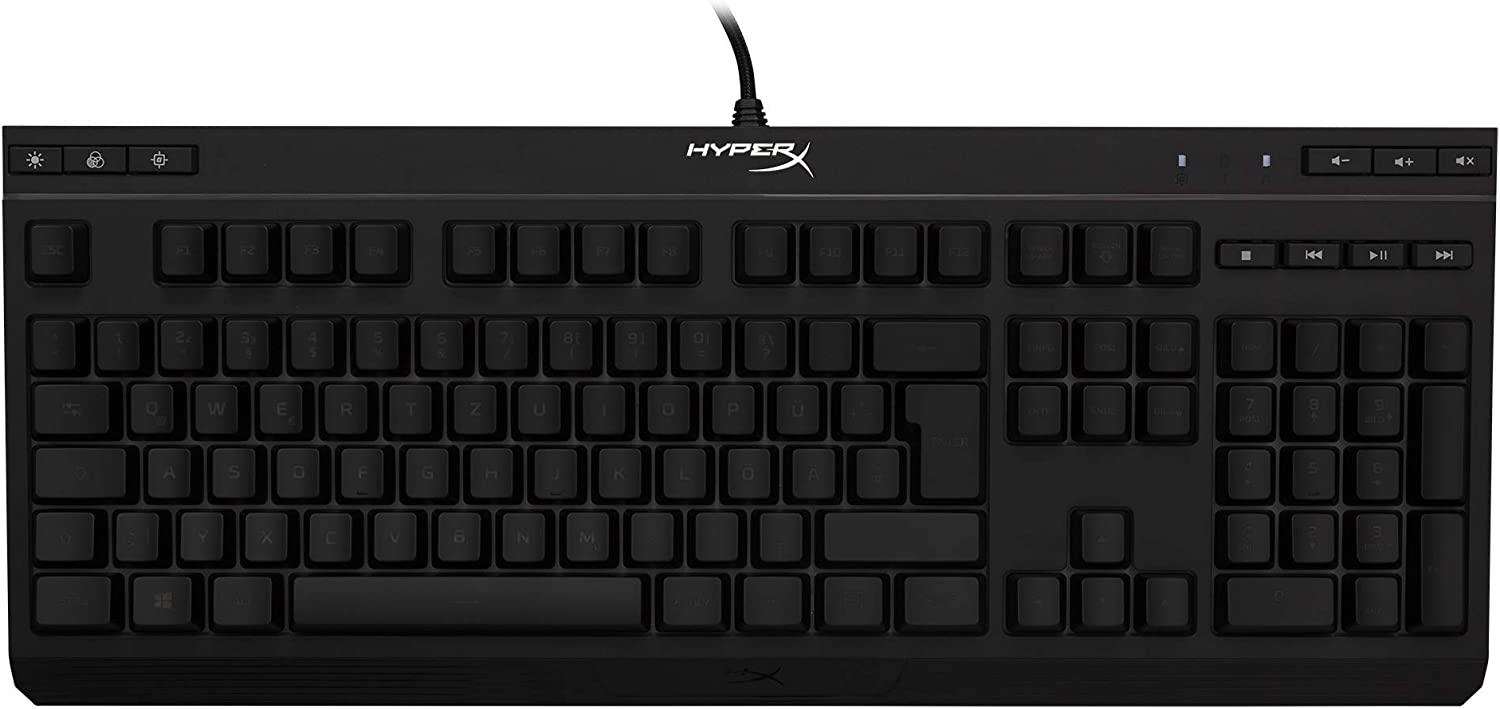0: (674, 313, 725, 368)
1: (93, 316, 140, 369)
2: (156, 314, 204, 368)
3: (222, 314, 270, 368)
4: (289, 316, 338, 371)
5: (353, 317, 402, 372)
6: (416, 313, 465, 368)
7: (481, 313, 530, 368)
8: (545, 314, 594, 369)
9: (609, 314, 659, 369)
a: (143, 441, 191, 497)
accent: (804, 316, 852, 370)
ae: (786, 442, 836, 498)
alt-left: (209, 570, 274, 626)
altgr-right: (656, 570, 723, 626)
b: (432, 506, 482, 560)
c: (305, 507, 353, 560)
caret: (27, 313, 75, 368)
comma: (626, 507, 674, 561)
d: (273, 441, 321, 497)
del: (869, 315, 981, 370)
e: (256, 377, 304, 433)
enter: (900, 376, 980, 499)
f: (337, 441, 384, 497)
g: (401, 441, 448, 497)
h: (465, 442, 513, 497)
hash: (851, 442, 899, 498)
i: (578, 378, 627, 433)
j: (530, 442, 578, 498)
k: (594, 441, 643, 497)
keyboard: (1, 188, 1500, 674)
l: (658, 441, 707, 498)
less: (111, 506, 160, 560)
m: (560, 506, 611, 560)
minus: (753, 507, 803, 560)
n: (497, 506, 546, 560)
o: (642, 378, 691, 433)
oe: (722, 442, 771, 498)
p: (707, 378, 756, 433)
plus: (836, 378, 884, 433)
point: (691, 506, 740, 560)
q: (126, 377, 174, 433)
r: (320, 378, 369, 433)
s: (208, 441, 255, 497)
shift-left: (31, 507, 94, 560)
shift-lock: (31, 441, 127, 497)
shift-right: (820, 506, 979, 560)
space: (286, 568, 645, 629)
ss: (740, 315, 789, 369)
strg-left: (31, 569, 112, 625)
strg-right: (899, 570, 981, 626)
t: (385, 377, 433, 433)
tab: (30, 378, 110, 432)
u: (514, 378, 563, 433)
ue: (771, 378, 821, 434)
v: (369, 506, 417, 559)
w: (190, 377, 239, 433)
x: (242, 506, 289, 560)
y: (177, 506, 224, 560)
z: (449, 378, 498, 433)
